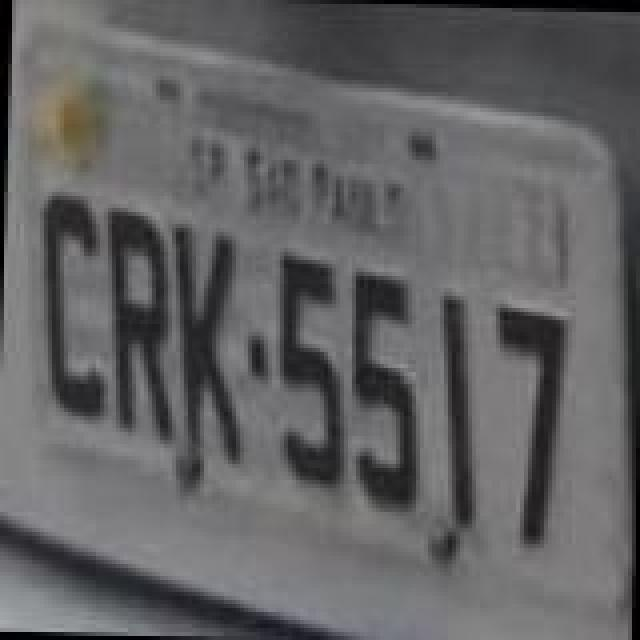1: (430, 292, 482, 532)
5: (342, 264, 422, 508), (270, 250, 350, 486)
7: (484, 300, 564, 548)
C: (32, 186, 112, 422)
K: (164, 216, 252, 464)
R: (96, 202, 184, 450)
